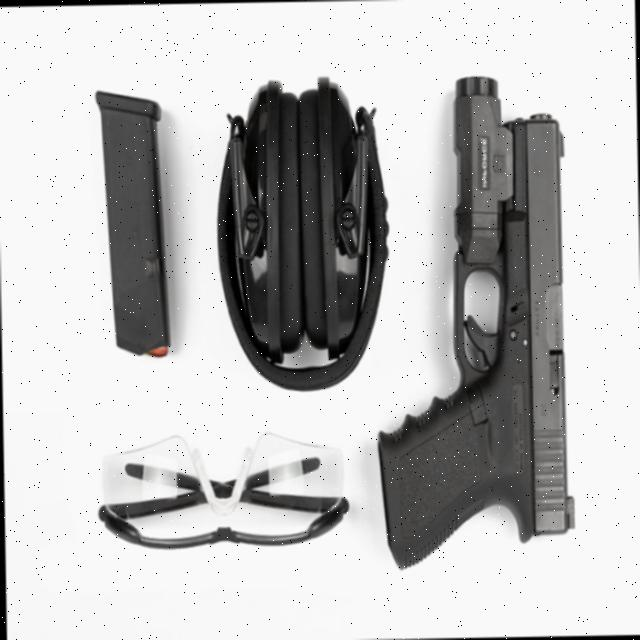Handgun: (372, 65, 577, 582)
